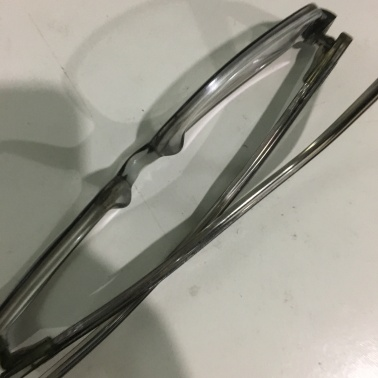glasses: (31, 29, 317, 377)
